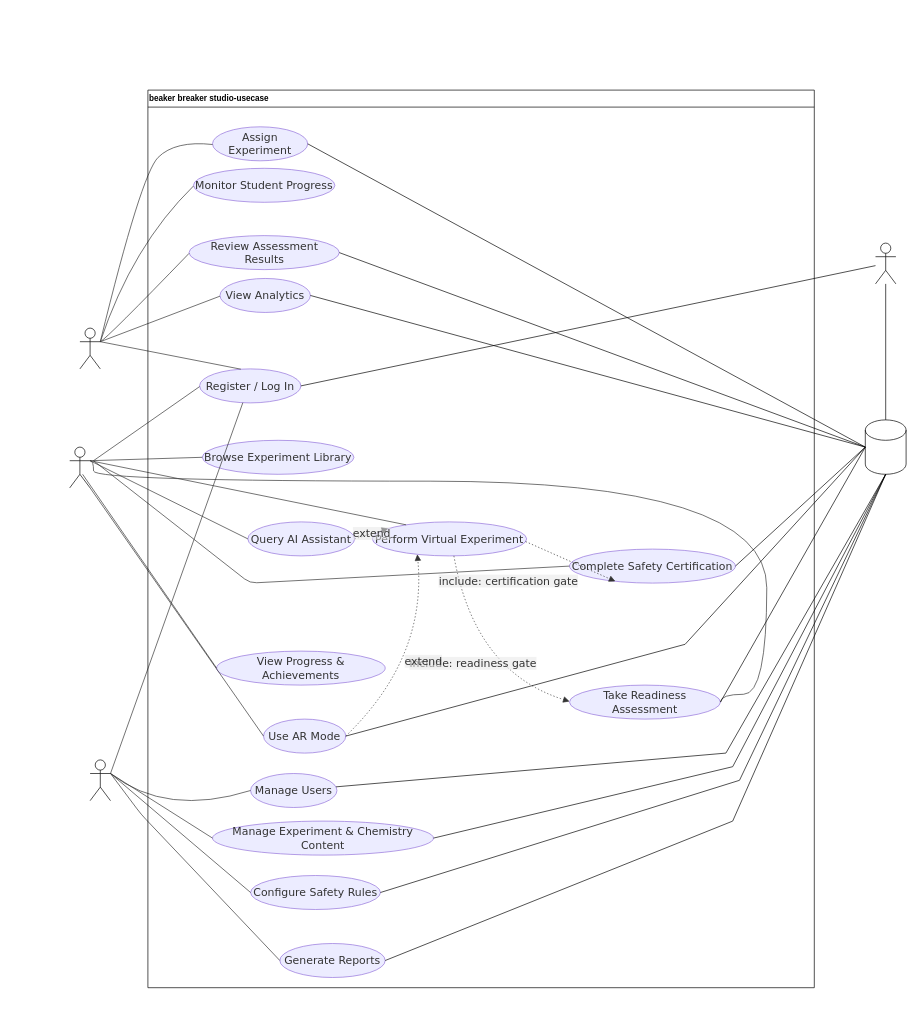
Image size: 920x1016. Some labels were removed from this diagram. The shapes that lost their labels are listed below. From the top down, each one's box as (x1, y1, x2, y2) in pixels, then its label:
(875, 242, 896, 284): Athenticater
(79, 327, 100, 369): Teacher
(865, 419, 906, 474): DataBase
(69, 446, 90, 488): Student
(89, 759, 111, 801): Administrator
